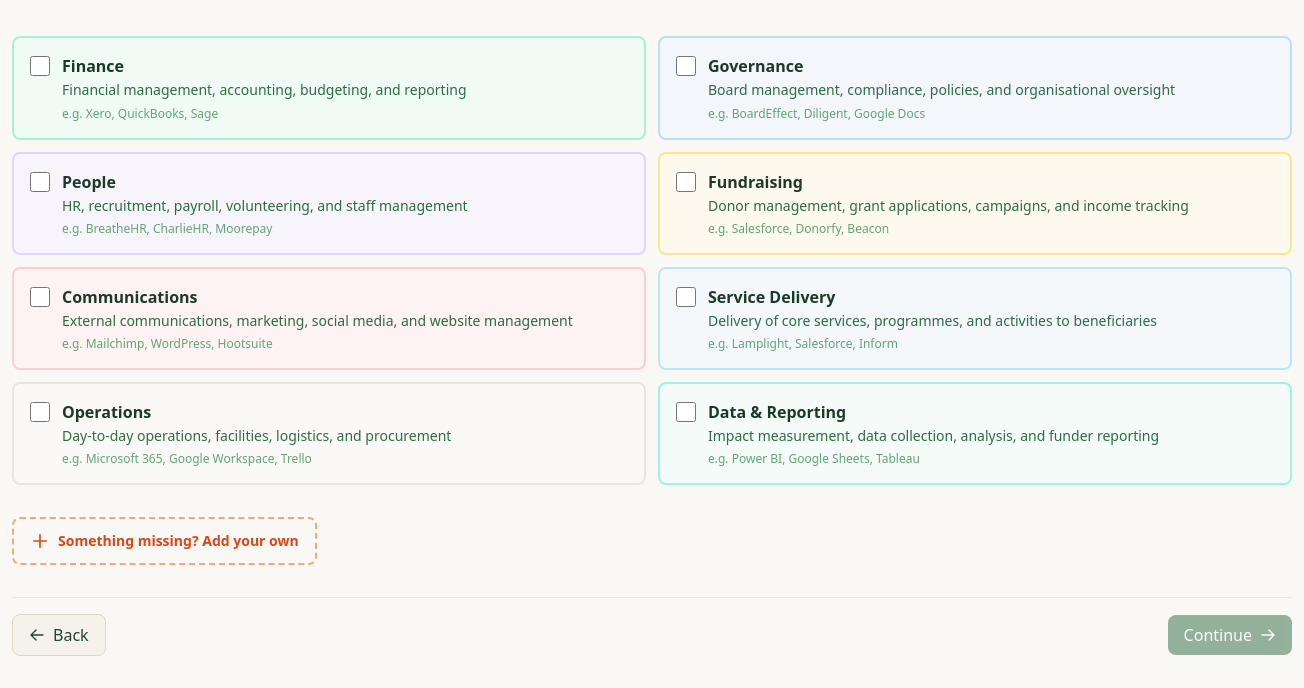
FunctionPicker › enables Continue button after selecting a function
The image size is (1304, 688).
Click the 1st checkbox: (40, 66) [30,56,50,76]
(page scrolled)
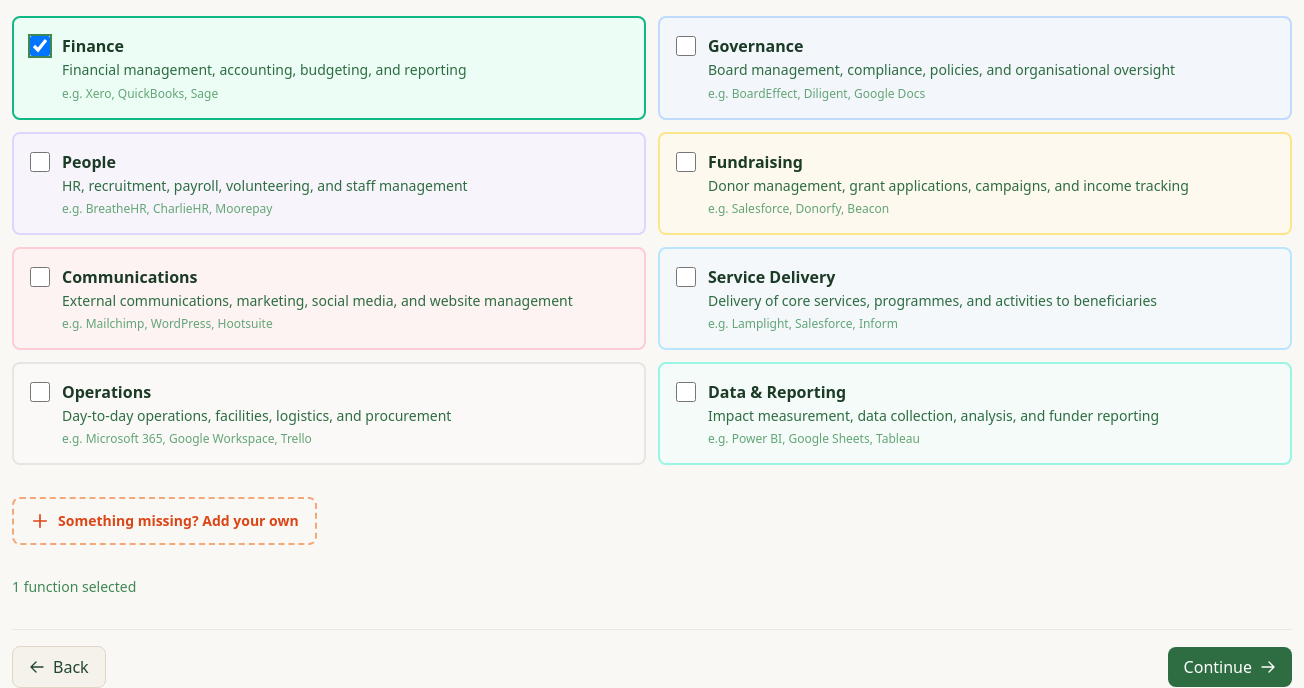
Now the button "Continue" is enabled, box [1168,647,1292,687]
